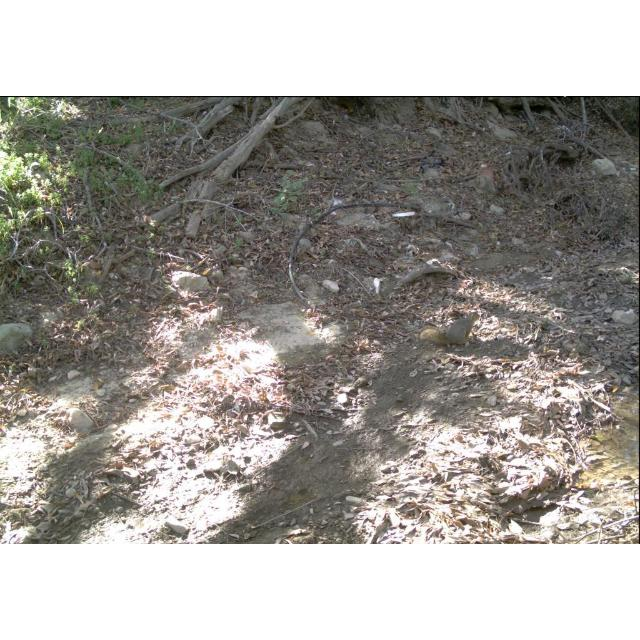animals: (418, 308, 480, 350)
